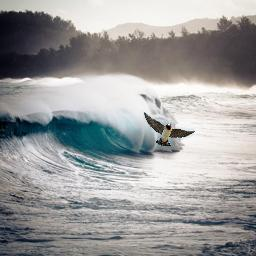Swallow: (143, 111, 195, 146)
